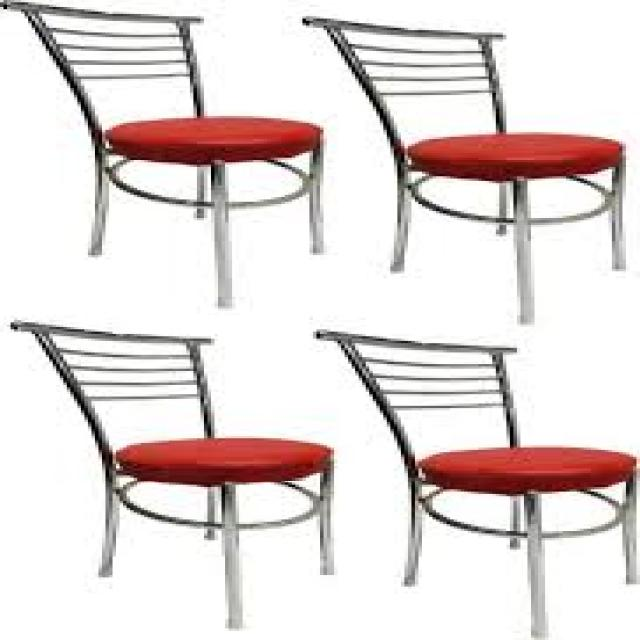obstacle: (302, 6, 640, 316), (14, 294, 343, 599), (0, 2, 330, 300), (356, 301, 628, 640)
